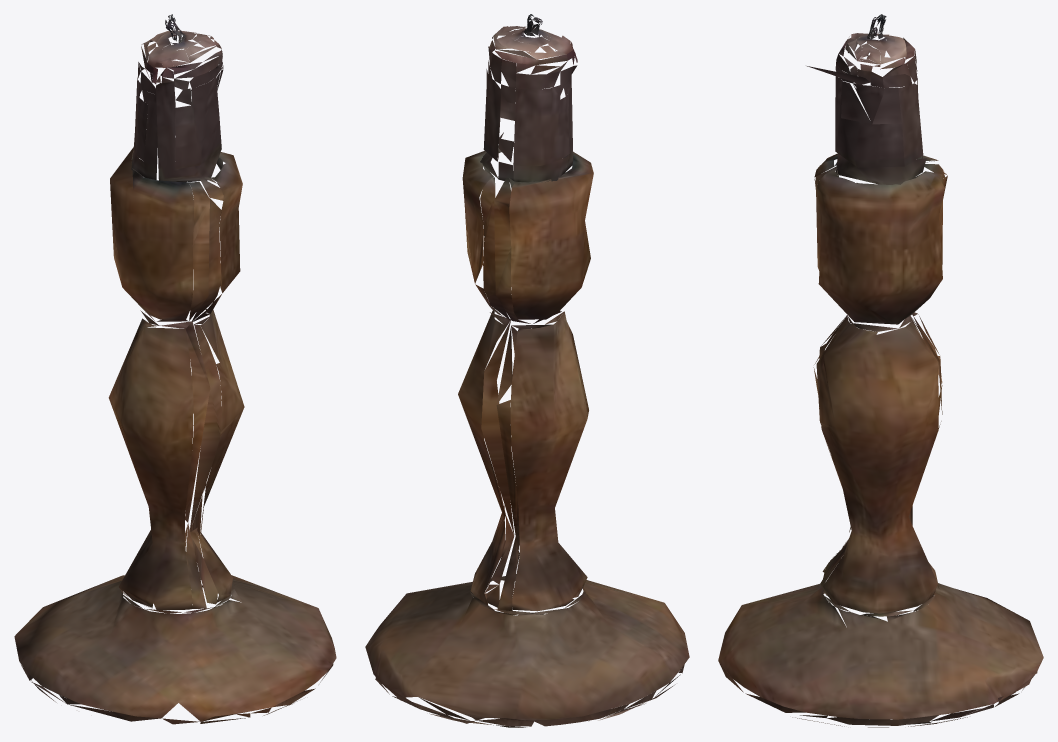
The model's file is wooden_candlestick.glb.
3 views of the same model, side by side, from view 1: azimuth 30°, elevation 25°; view 2: azimuth 150°, elevation 25°; view 3: azimuth 270°, elevation 25° (orthographic).
Visible parts, largest first — view 1: wooden_candlestick; view 2: wooden_candlestick; view 3: wooden_candlestick.
Part boxes in pixels (x1,y1,x2,y2): wooden_candlestick: [14, 14, 336, 724]; wooden_candlestick: [365, 14, 689, 727]; wooden_candlestick: [718, 14, 1043, 727].
Size of the model in its own units: 0.0979 by 0.2198 by 0.1002.
Materials: 1 (1 with a texture image).
